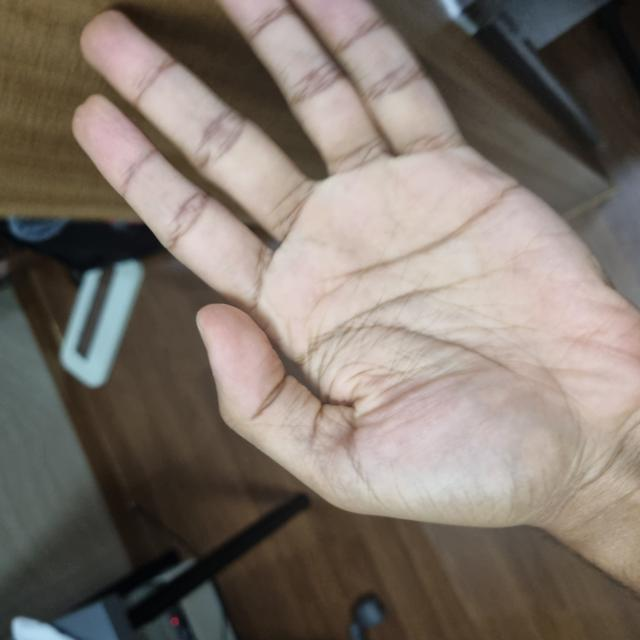Paper: (117, 79, 640, 637)
